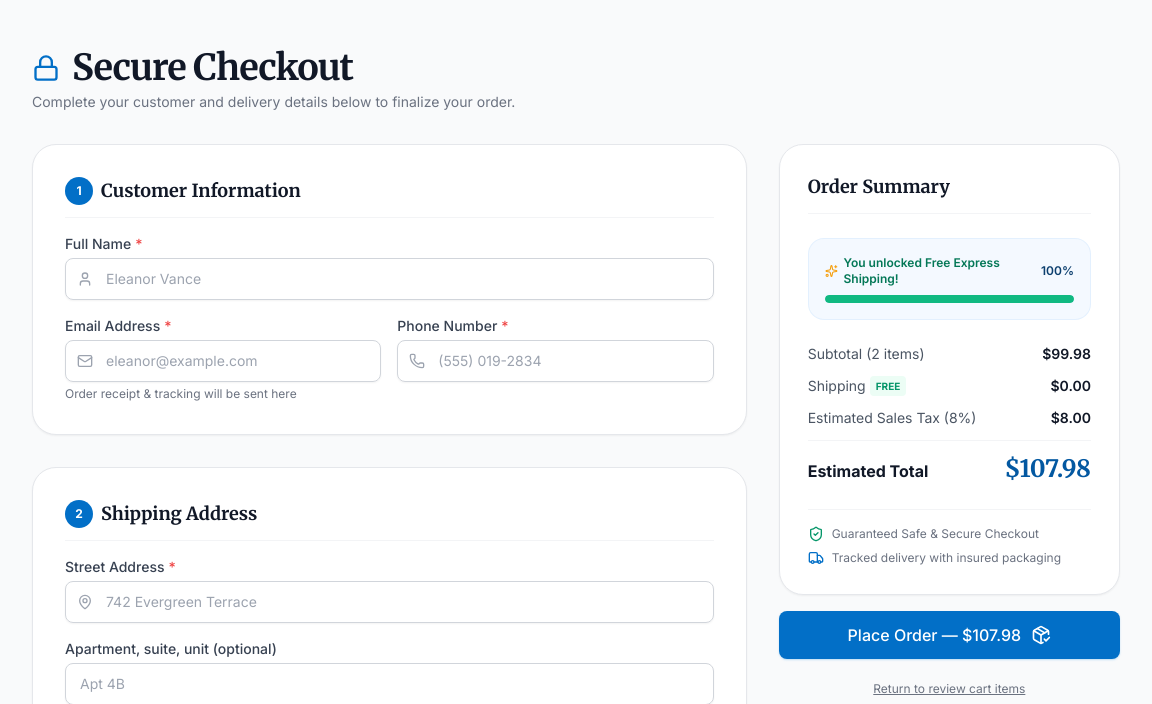
Test: Checkout Flow › validates required fields on submission attempt
Click the button "Place Order — $107.98": (949, 635) [779,611,1120,659]
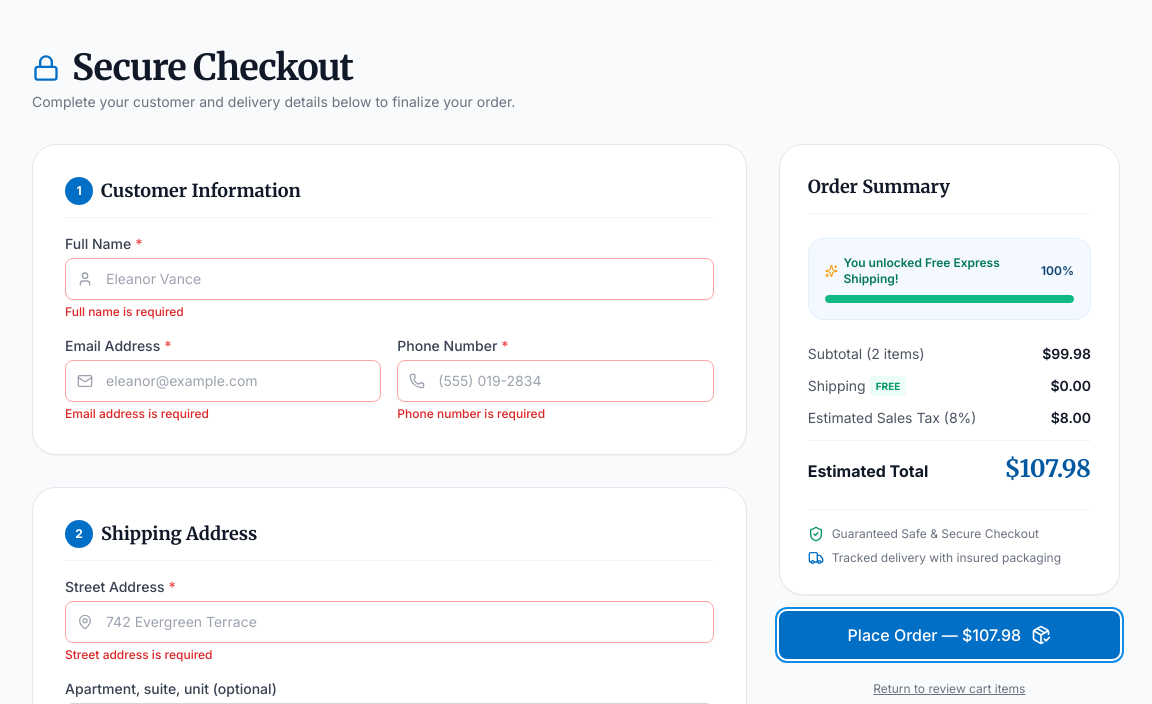
expect the text "Full name is required" is shown: met, box [65,304,184,319]
expect the text "Email address is required" is shown: met, box [65,406,209,421]
expect the text "Phone number is required" is shown: met, box [397,406,545,421]
